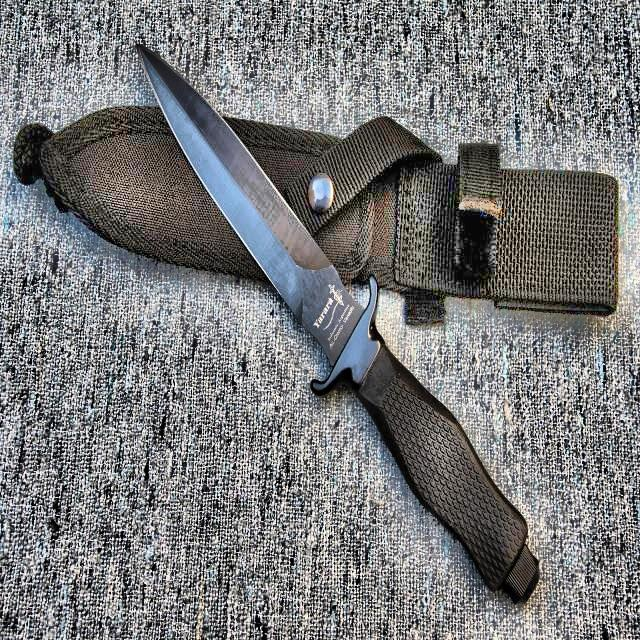knife: (135, 46, 544, 603)
